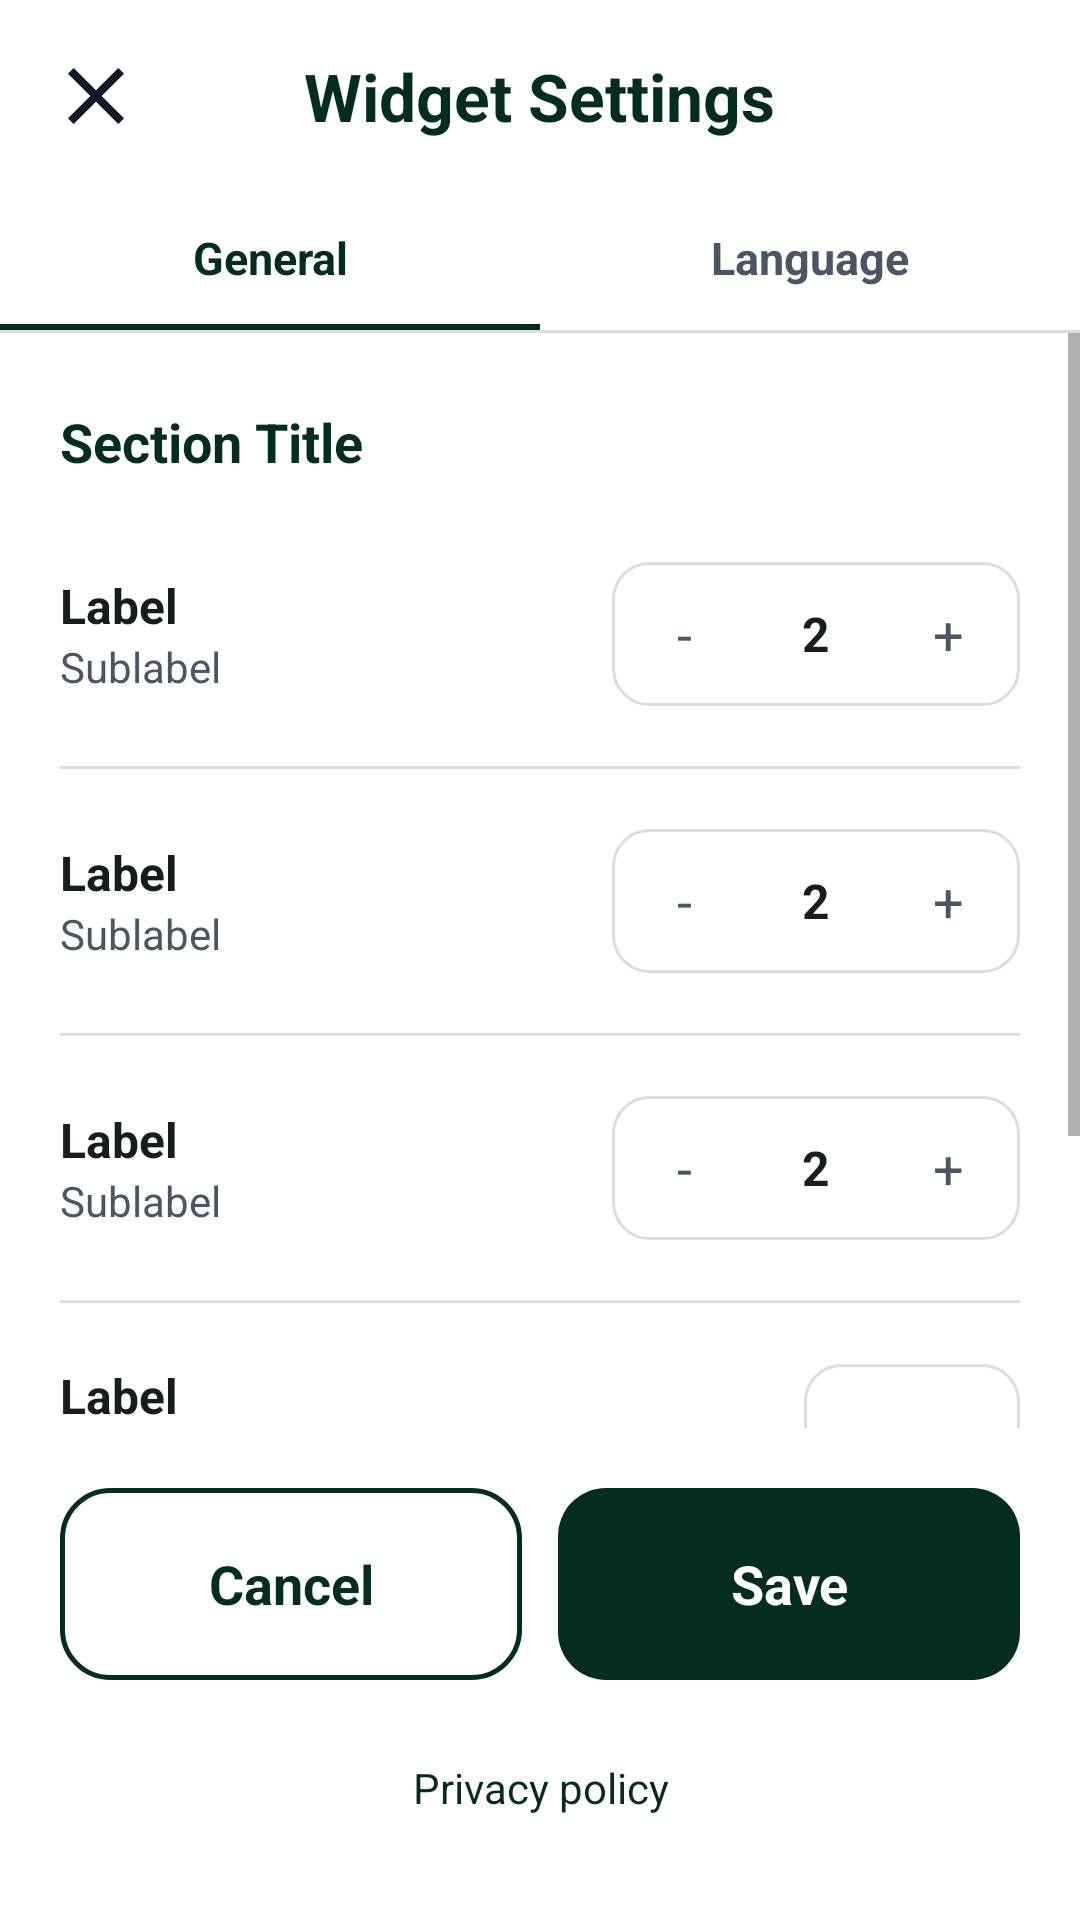

Screen size 1080px×1920px. Icon name, then its center in pixels as (x=x, y=y):
Close: (x=96, y=96)
